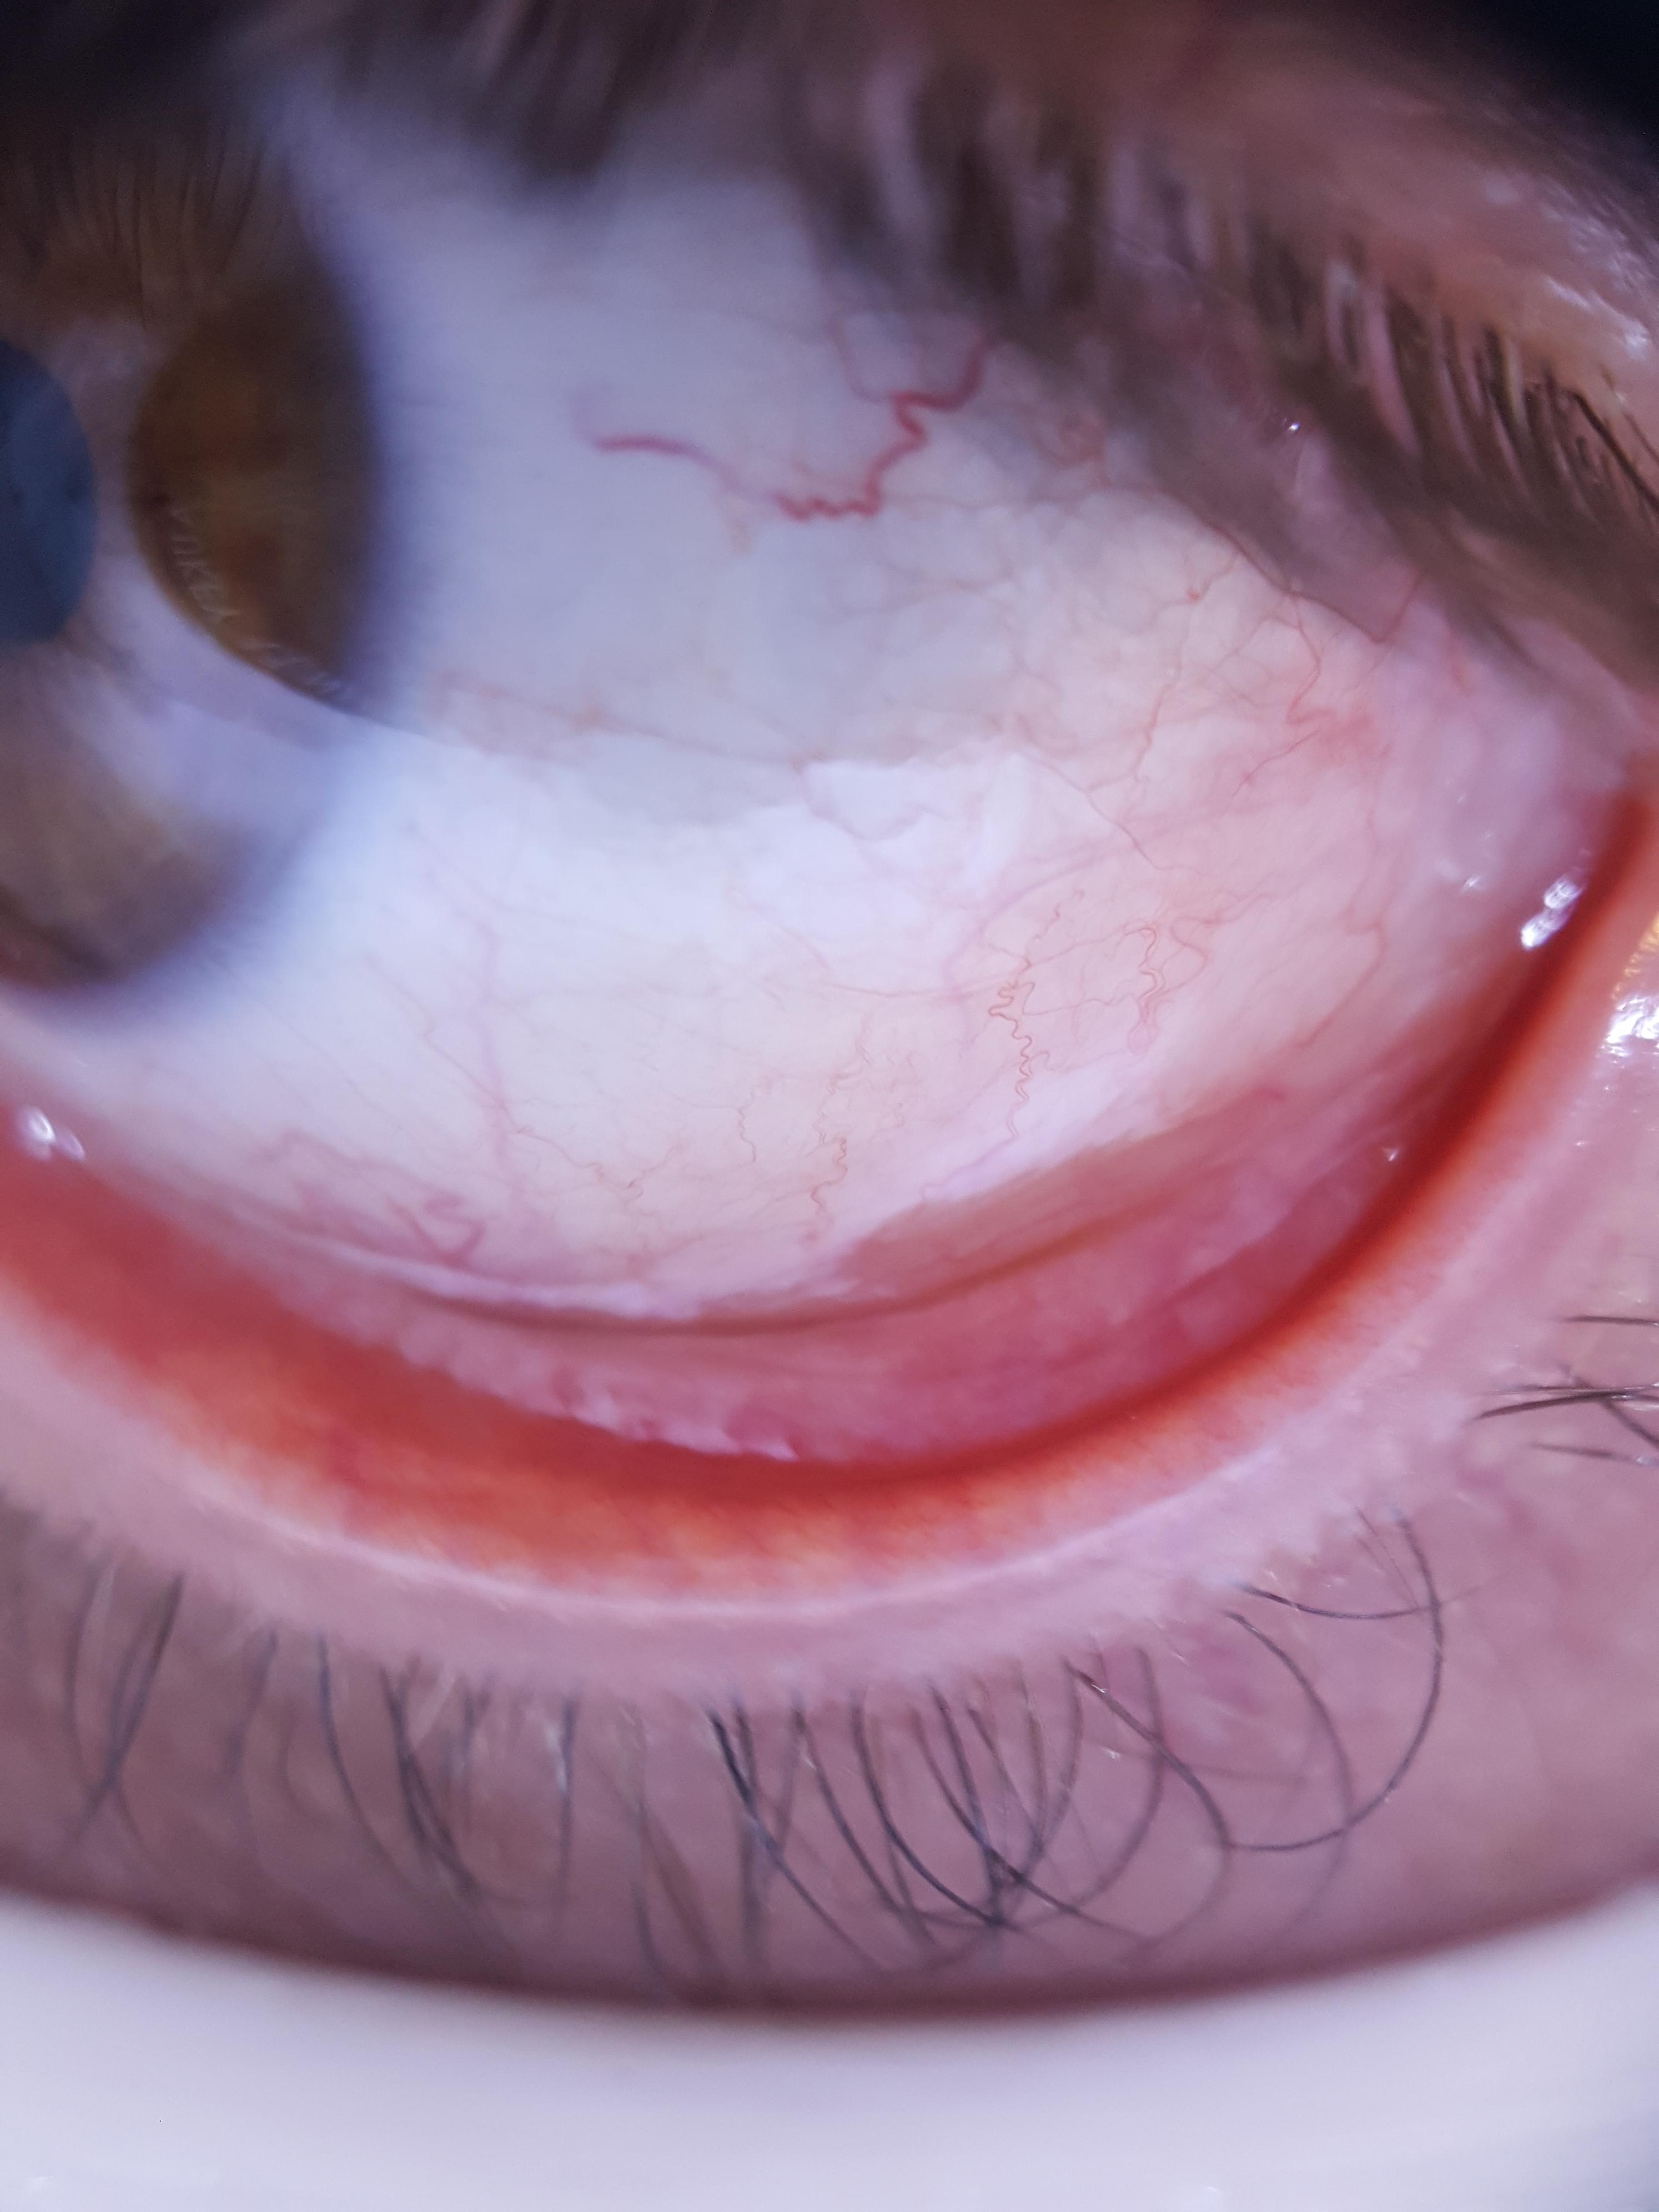forniceal: (0, 787, 1591, 1467)
forniceal_palpebral: (0, 777, 1659, 1571)
palpebral: (0, 787, 1656, 1562)
